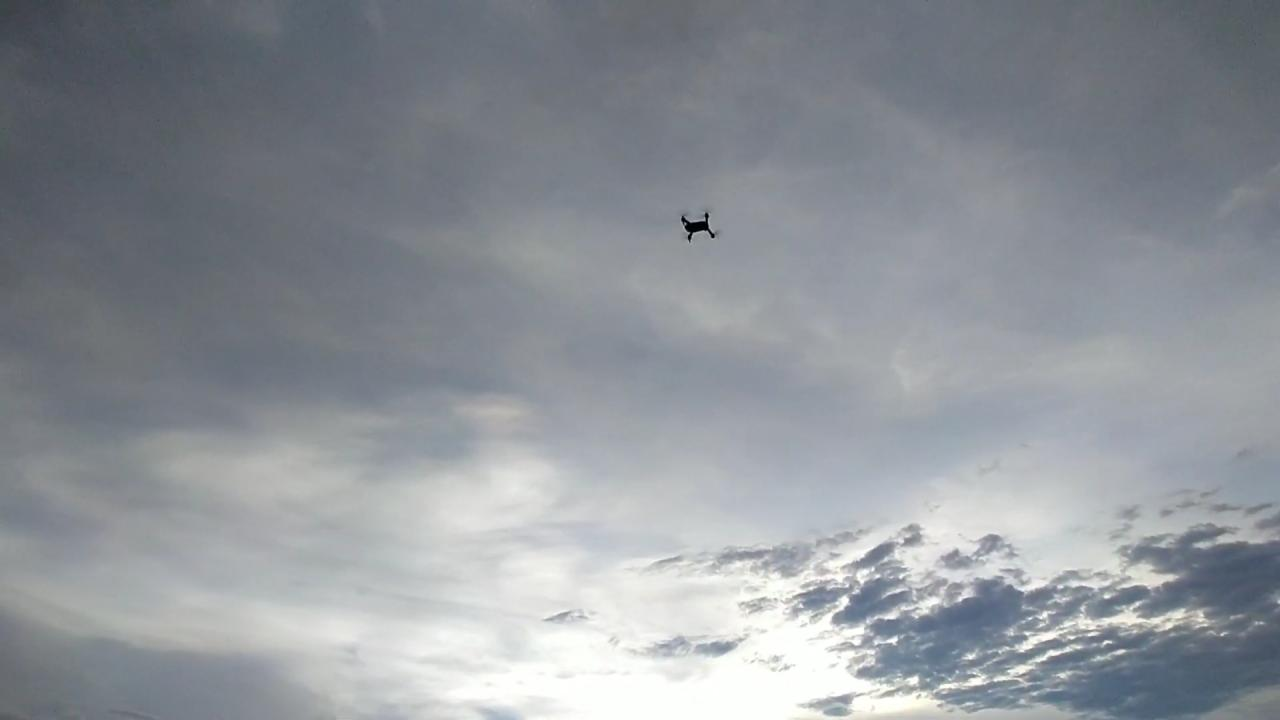Drone: (672, 199, 723, 255)
